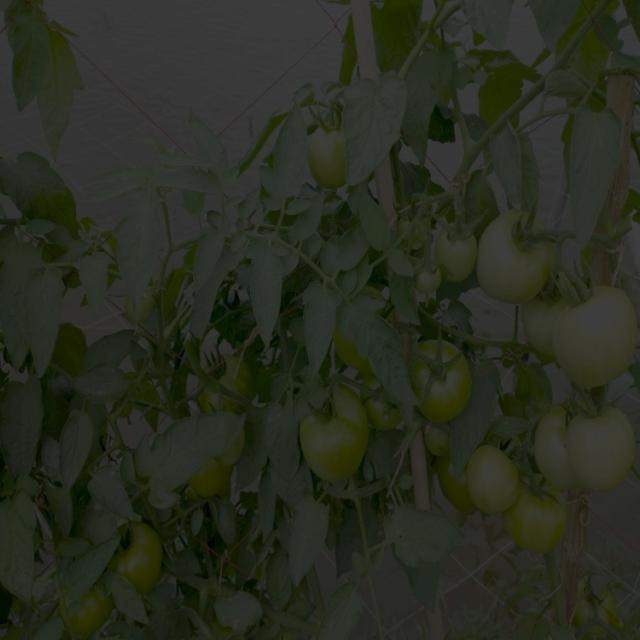tomato: (540, 400, 640, 494), (478, 208, 561, 303), (566, 281, 640, 386), (408, 210, 473, 298), (304, 392, 364, 482), (408, 336, 470, 423), (305, 117, 369, 190), (115, 519, 168, 587), (192, 360, 254, 415), (466, 454, 520, 517), (52, 588, 115, 638), (525, 500, 567, 553), (339, 315, 372, 375), (523, 309, 558, 360), (186, 455, 229, 496), (370, 392, 401, 425)
